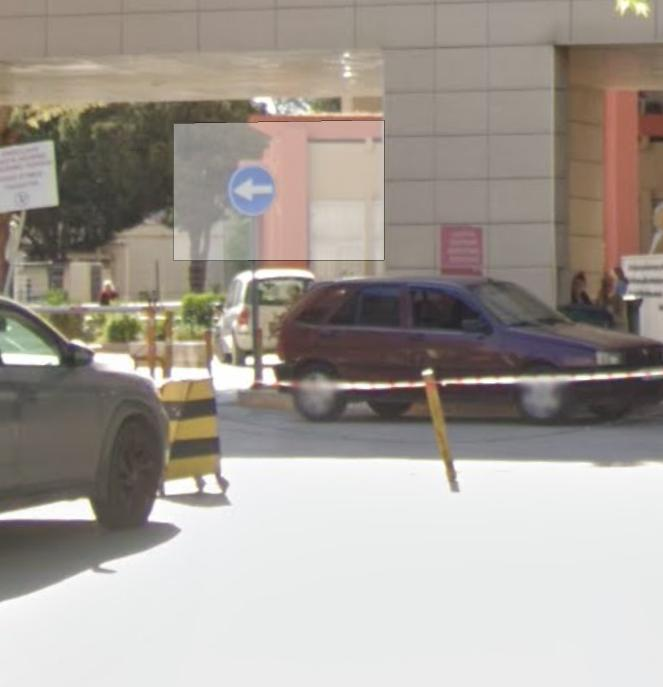turnleft: (231, 169, 277, 215)
